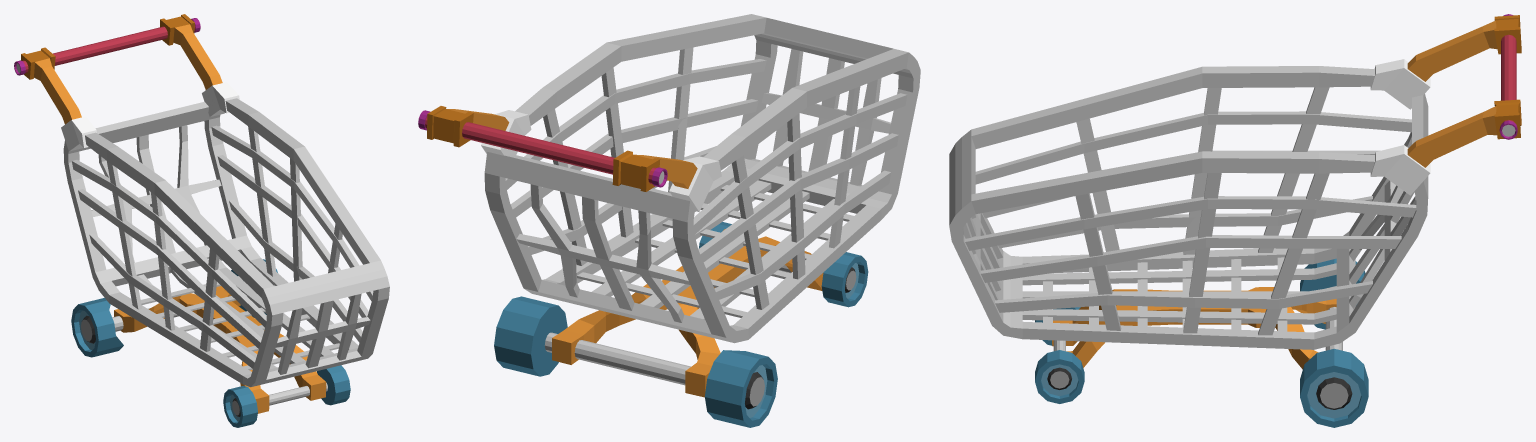
Rendered from ShopCart_Car.fbx.
3 views of the same model, side by side, from view 1: azimuth 30°, elevation 25°; view 2: azimuth 150°, elevation 25°; view 3: azimuth 270°, elevation 25° (orthographic). The views are drawn at different scales.
Visible parts, largest first — view 1: Cube, Cube.006, Cube.002, Cube.003, Cylinder.001, Cylinder.002, Cylinder, Cube.001, Cylinder.003; view 2: Cube.006, Cube, Cylinder.001, Cube.003, Cube.002, Cylinder, Cylinder.004, Cylinder.002, Cube.001; view 3: Cube.006, Cube, Cube.002, Cylinder.001, Cube.001, Cube.003, Cylinder.002, Cylinder.
Boxes of the visible parts, x1,y1,x2,y2 form: Cube: [63, 98, 389, 387]; Cube.006: [72, 125, 373, 374]; Cube.002: [20, 14, 222, 124]; Cube.003: [114, 286, 326, 413]; Cylinder.001: [71, 259, 277, 357]; Cylinder.002: [223, 365, 350, 427]; Cylinder: [14, 18, 200, 75]; Cube.001: [61, 82, 239, 151]; Cylinder.003: [269, 383, 327, 405]; Cube.006: [505, 47, 907, 322]; Cube: [484, 14, 920, 343]; Cylinder.001: [494, 296, 777, 427]; Cube.003: [552, 229, 823, 397]; Cube.002: [427, 106, 697, 191]; Cylinder: [418, 110, 667, 187]; Cylinder.004: [544, 332, 690, 385]; Cylinder.002: [698, 222, 868, 307]; Cube.001: [481, 110, 721, 211]; Cube.006: [963, 87, 1416, 335]; Cube: [949, 66, 1428, 349]; Cube.002: [1407, 15, 1521, 167]; Cylinder.001: [1300, 258, 1368, 427]; Cube.001: [1370, 59, 1430, 195]; Cube.003: [1052, 287, 1336, 369]; Cylinder.002: [1035, 307, 1084, 403]; Cylinder: [1499, 14, 1517, 139].
Size of the model in its own units: 297 by 377 by 638.
1 material, 1 textured.
